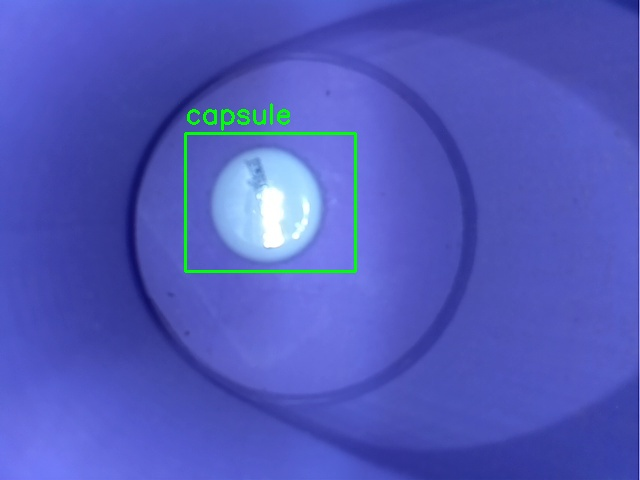capsule: (185, 133, 355, 271)
